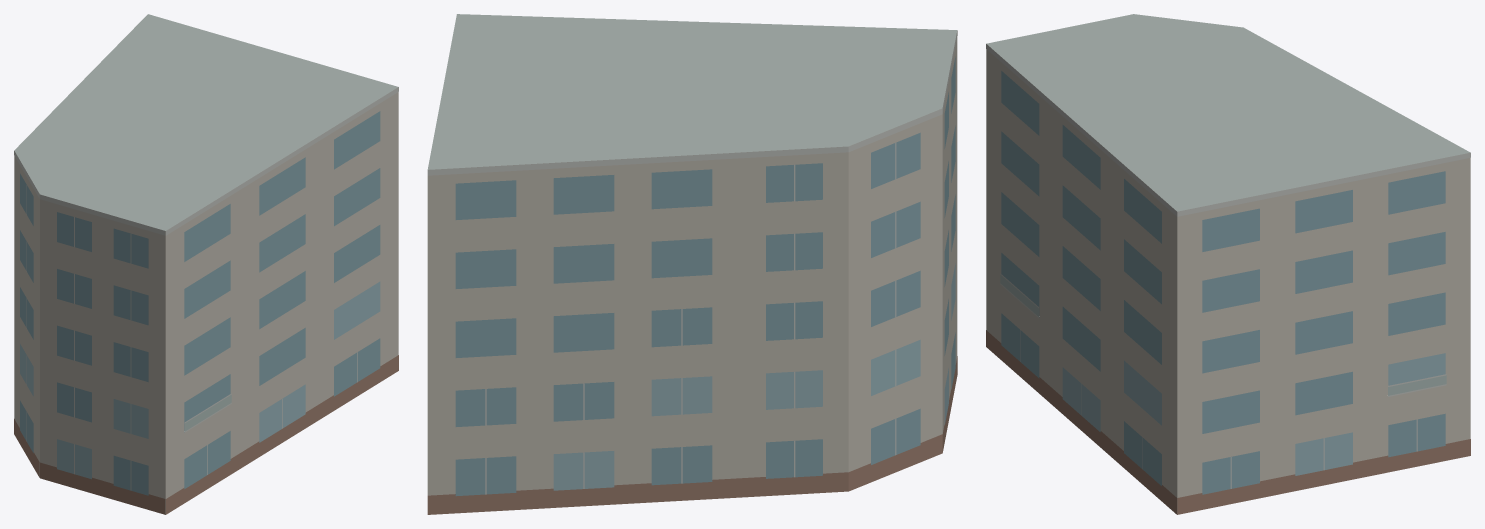
The model's file is survey-upis-32708314.glb.
3 views of the same model, side by side, from view 1: azimuth 30°, elevation 25°; view 2: azimuth 150°, elevation 25°; view 3: azimuth 270°, elevation 25° (orthographic). The views are drawn at different scales.
Parts seen in each view (by area): view 1: survey-upis-32708314.tmp; view 2: survey-upis-32708314.tmp; view 3: survey-upis-32708314.tmp.
Part boxes in pixels (bbox=[...]): survey-upis-32708314.tmp: bbox=[14, 14, 398, 514]; survey-upis-32708314.tmp: bbox=[427, 14, 957, 514]; survey-upis-32708314.tmp: bbox=[986, 14, 1470, 514].
Size of the model in its own units: 20 by 14.3 by 20.72.
